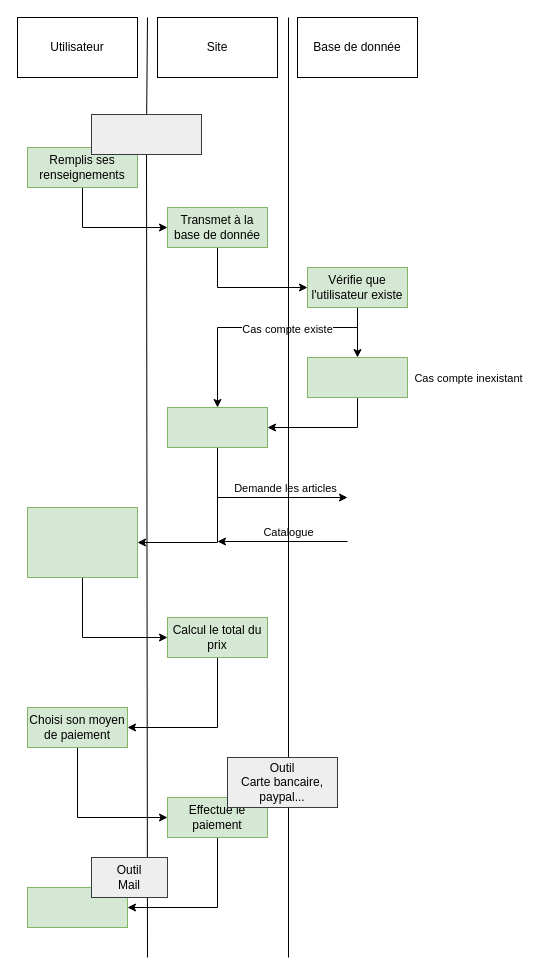
The diagram is 539 pixels wide and 976 high, and some of its shapes have lost their labels. The shapes that lost their labels are listed below. From the top down, each one's centre as x and y in pixels, then its label:
pixel 146 134: Outil Formulaire en ligne
pixel 357 377: Enregistre l'utilisateur
pixel 217 427: Connecte l'utilisateur
pixel 82 542: Consulte le catalogue et ajoute un ou plusieurs produits au panier
pixel 77 907: Reçois facture
